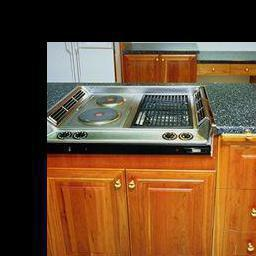Electrodomestico: (49, 82, 211, 154)
